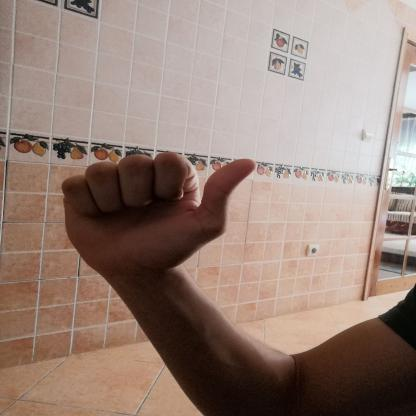DAD: (49, 144, 268, 290)
